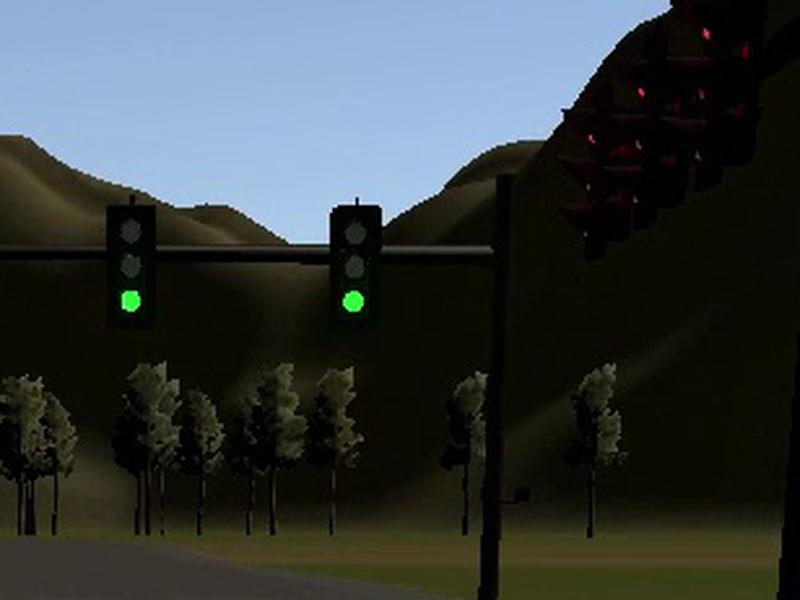Green: (329, 205, 381, 329), (106, 205, 156, 331)
